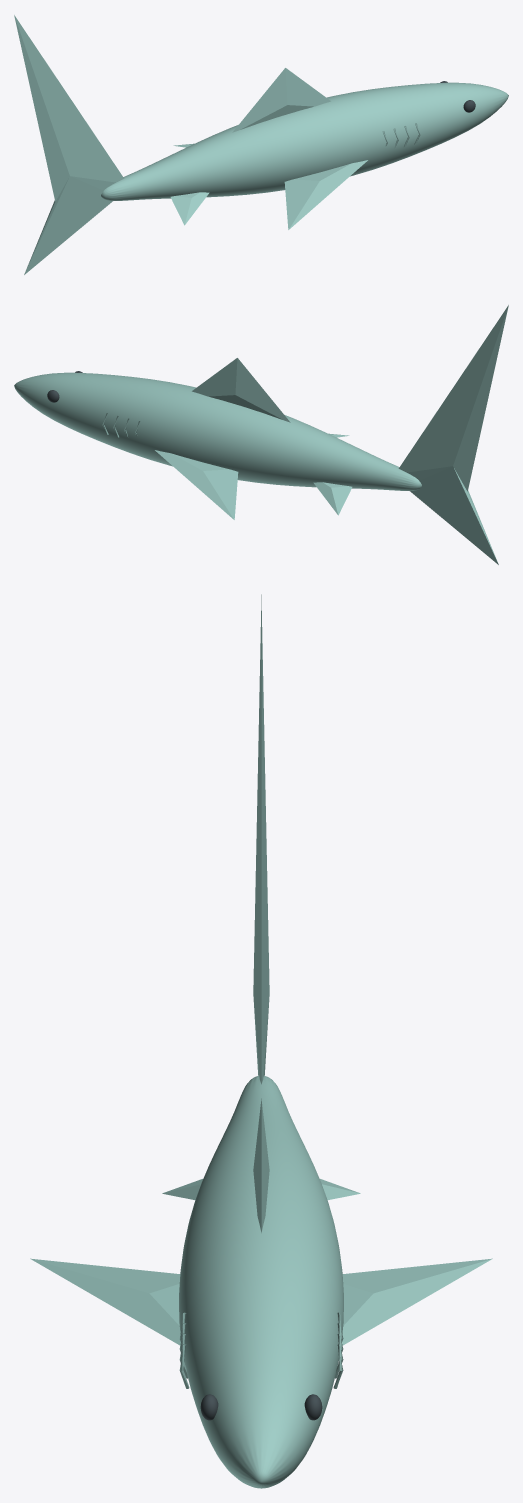
The picture shows the model from 3 angles, top to bottom: view 1: azimuth 30°, elevation 25°; view 2: azimuth 150°, elevation 25°; view 3: azimuth 270°, elevation 25°; orthographic projection. The views are drawn at different scales.
Visible parts, largest first — view 1: Body, Tail, Dorsal, Pectoral, Pelvic; view 2: Body, Tail, Dorsal, Pectoral.001, Pelvic.001; view 3: Body, Pectoral, Pectoral.001, Tail, Dorsal.
Boxes of the visible parts, x1=… form: Body: x1=101, y1=82, x2=508, y2=200; Tail: x1=14, y1=15, x2=124, y2=274; Dorsal: x1=232, y1=68, x2=330, y2=132; Pectoral: x1=284, y1=160, x2=367, y2=229; Pelvic: x1=170, y1=192, x2=209, y2=225; Body: x1=14, y1=372, x2=421, y2=490; Tail: x1=398, y1=305, x2=508, y2=564; Dorsal: x1=192, y1=358, x2=290, y2=422; Pectoral.001: x1=155, y1=450, x2=238, y2=519; Pelvic.001: x1=313, y1=482, x2=352, y2=515; Body: x1=179, y1=1076, x2=343, y2=1488; Pectoral: x1=30, y1=1258, x2=180, y2=1345; Pectoral.001: x1=342, y1=1258, x2=492, y2=1345; Tail: x1=253, y1=594, x2=269, y2=1084; Dorsal: x1=253, y1=1098, x2=269, y2=1232.
Bounding box in the file's own units: 252 × 128 × 102.
